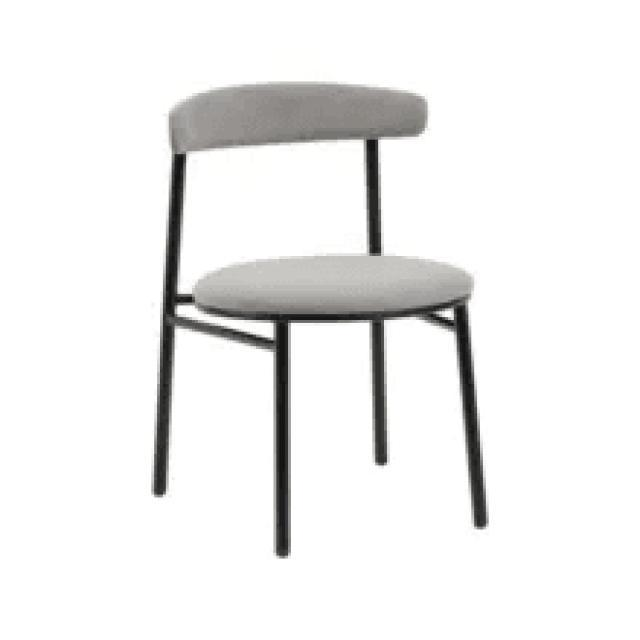chair: (143, 76, 494, 556), (165, 82, 488, 324)
